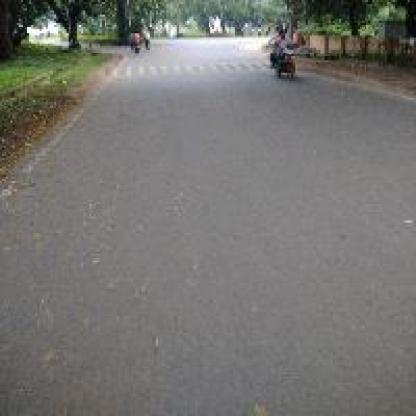Speed Bump: (117, 58, 268, 77)
